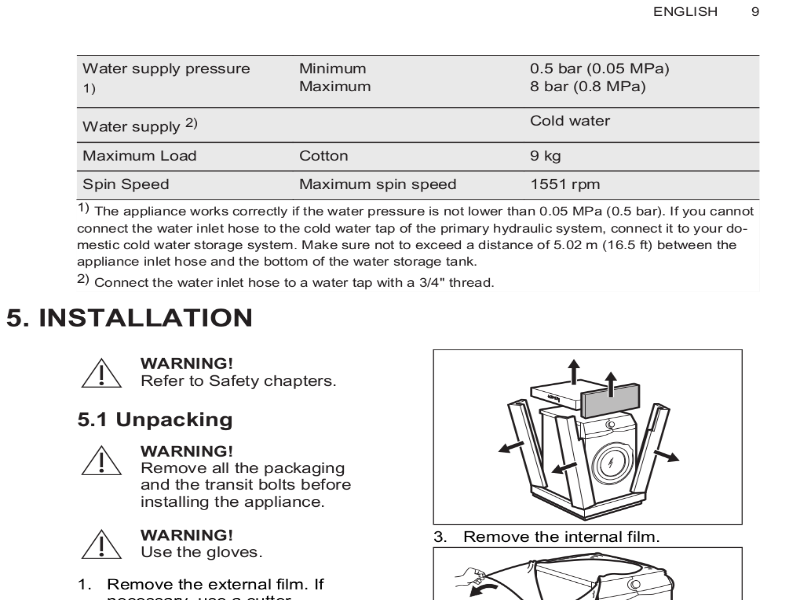borderless: (65, 48, 764, 204)
cell: (78, 59, 259, 99), (516, 58, 675, 96), (292, 174, 461, 194), (79, 113, 200, 137), (293, 61, 375, 96), (77, 145, 202, 166), (518, 173, 615, 196), (516, 112, 636, 130), (76, 173, 175, 194), (275, 145, 374, 166), (521, 148, 569, 164)
